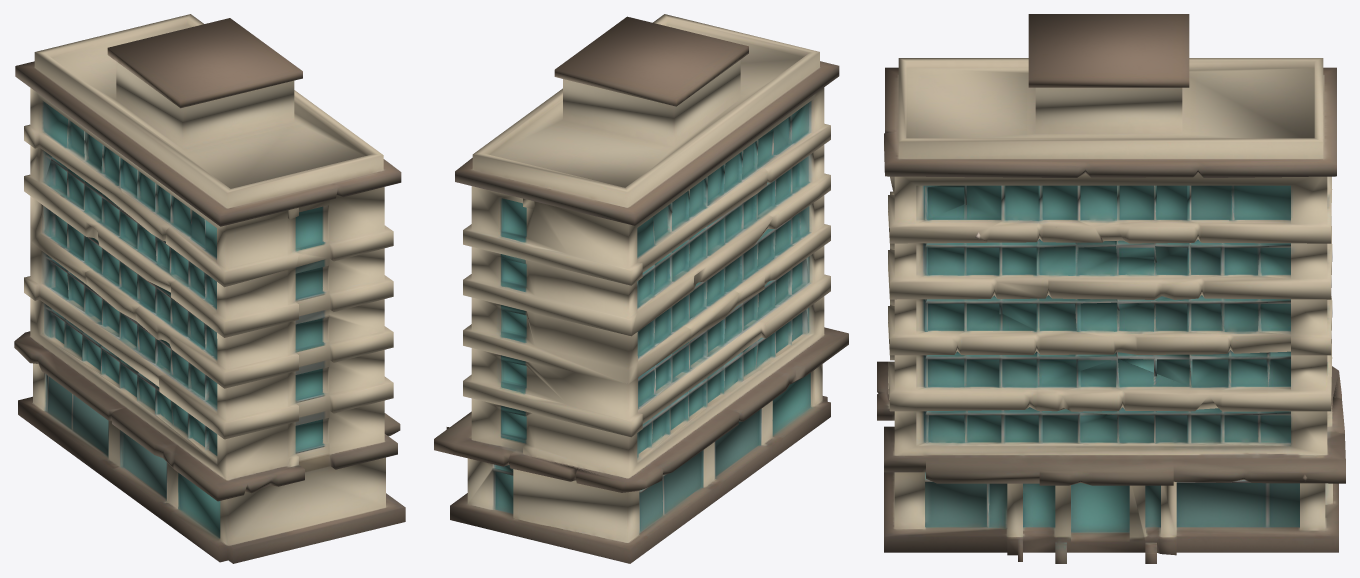
File: building-slab.glb
The picture shows the model from 3 angles, left to right: view 1: azimuth 30°, elevation 25°; view 2: azimuth 150°, elevation 25°; view 3: azimuth 270°, elevation 25°; orthographic projection. The views are drawn at different scales.
Parts seen in each view (by area): view 1: tripo_node_kodyurd-model-6_____________________; view 2: tripo_node_kodyurd-model-6_____________________; view 3: tripo_node_kodyurd-model-6_____________________.
Boxes of the visible parts, <box> form: tripo_node_kodyurd-model-6_____________________: <box>14,14,405,563</box>; tripo_node_kodyurd-model-6_____________________: <box>434,14,848,563</box>; tripo_node_kodyurd-model-6_____________________: <box>877,14,1345,563</box>.
Size of the model in its own units: 0.5371 by 0.998 by 0.9355.
1 material, 1 textured.
